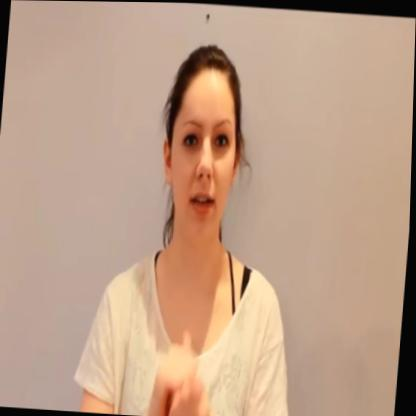HowAreYou: (138, 315, 230, 416)
